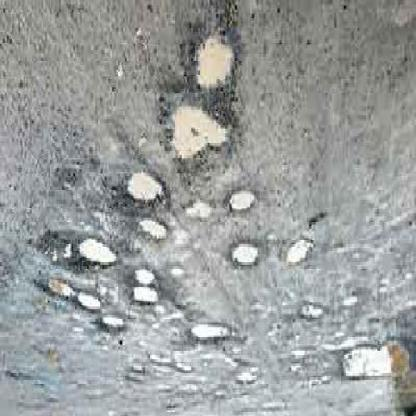pothole: (169, 108, 234, 167), (342, 345, 410, 385), (194, 37, 238, 95), (123, 172, 167, 211), (78, 241, 118, 274), (36, 278, 77, 305), (189, 324, 235, 348), (138, 219, 170, 246), (286, 240, 312, 270), (231, 245, 260, 271), (185, 202, 214, 224), (229, 193, 258, 215), (100, 318, 127, 340), (78, 295, 102, 317), (132, 290, 160, 308), (301, 306, 325, 324), (133, 270, 156, 288)
